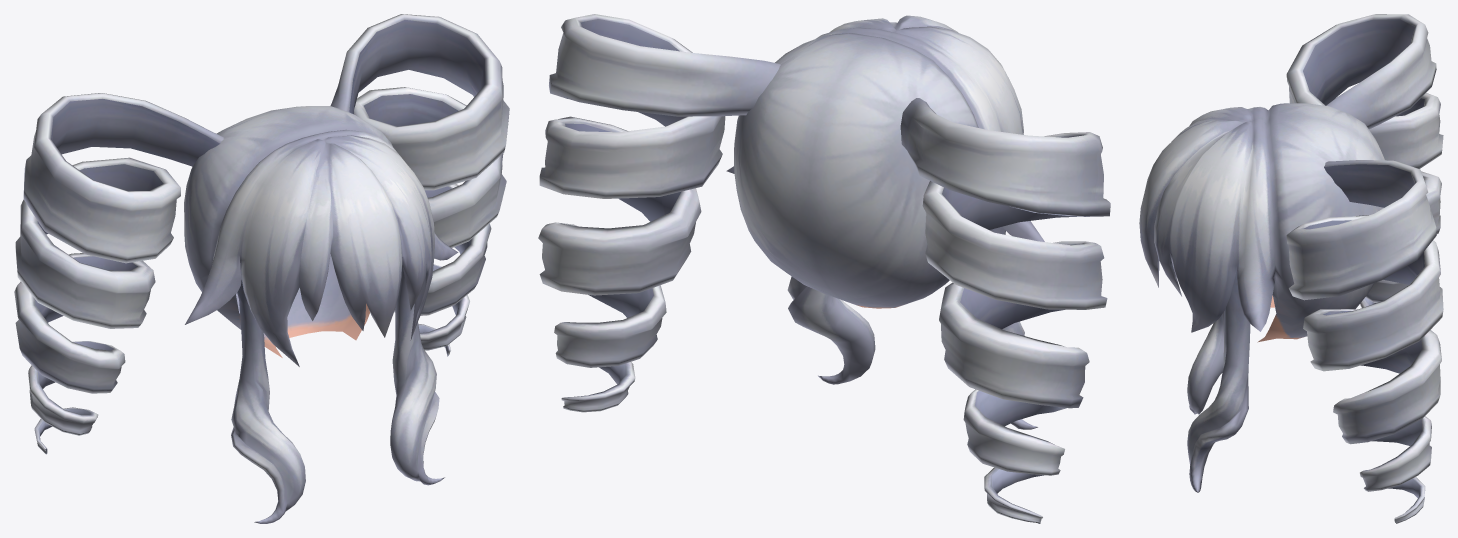
The model's file is BlackSister_Avatar.fbx.
3 renders of one model, left to right at view 1: azimuth 30°, elevation 25°; view 2: azimuth 150°, elevation 25°; view 3: azimuth 270°, elevation 25°, orthographic. The views are drawn at different scales.
Visible parts, largest first — view 1: hair; view 2: hair; view 3: hair.
Part boxes in pixels (x1=…): hair: x1=14, y1=14, x2=509, y2=523; hair: x1=538, y1=14, x2=1110, y2=523; hair: x1=1139, y1=14, x2=1443, y2=523.
Size of the model in its own units: 51.53 by 38.09 by 29.99.
Materials: 1 (1 with a texture image).
